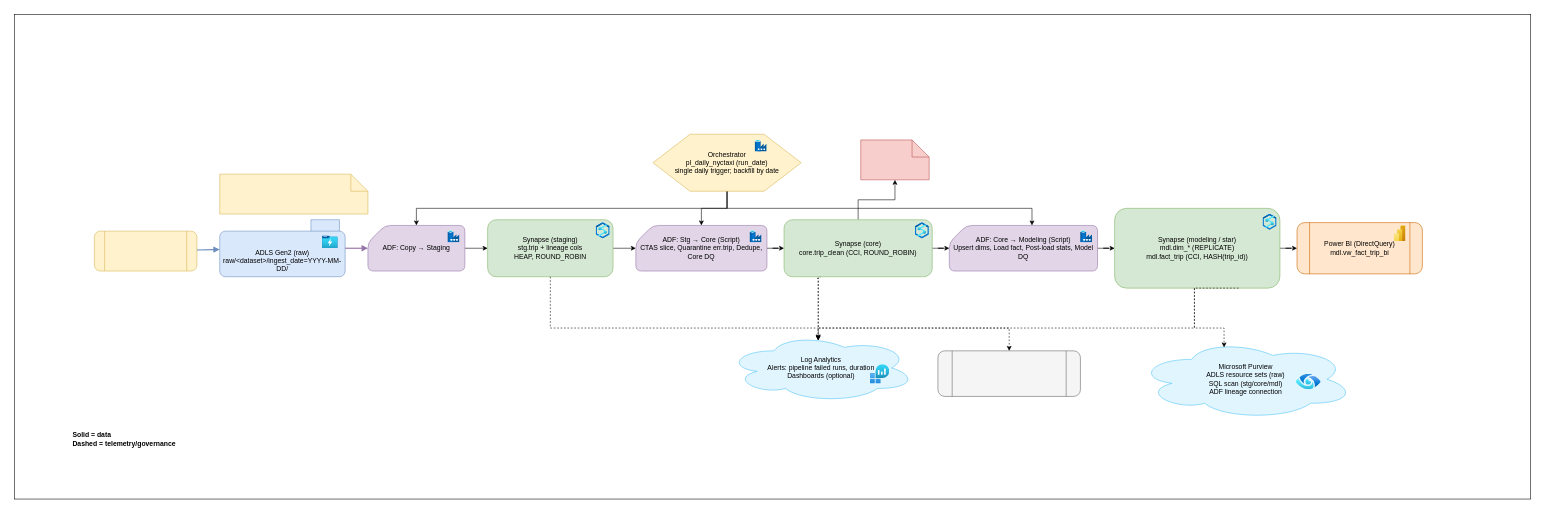
Image size: 1541x509. Some labels were removed from this diagram. The shapes that lost their labels are listed below. From the top down, each one's centre as x and y in pixels, then its label:
[894,159]: Quarantine err.trip
[293,194]: Security: MI + RBAC (Key Vault & Private Endpoints in prod)
[145,251]: Source Files (NYC Taxi Parquet)
[1008,373]: Observability ops.run_log / ops.dq_result / ops.run_metrics
